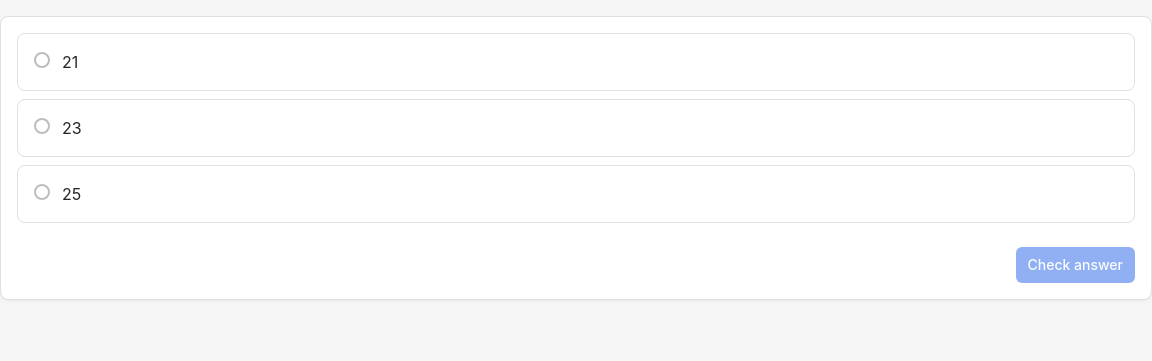
Test case: check mode (non-exam default) › with attempts="3": a wrong check marks only the pick and allows another try
Click the radio button "21" at x=576, y=62, box x1=17 y1=33 x2=1135 y2=91
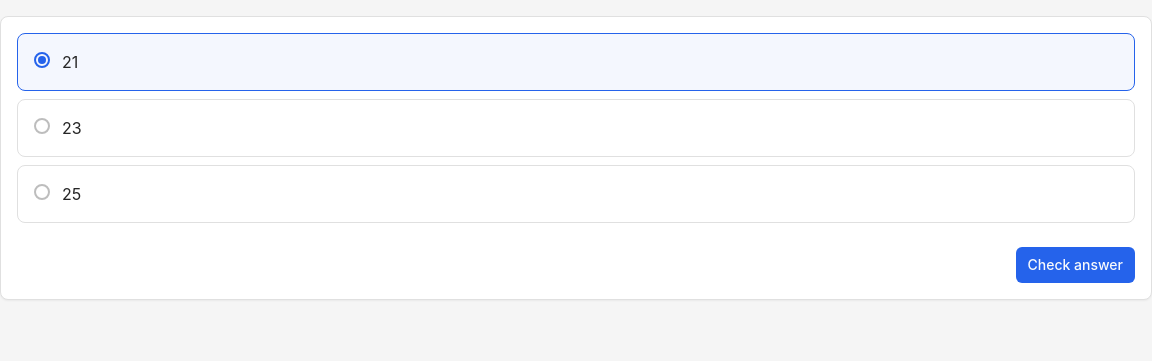
Click the button "Check answer" at x=1075, y=265, box x1=1016 y1=247 x2=1135 y2=283
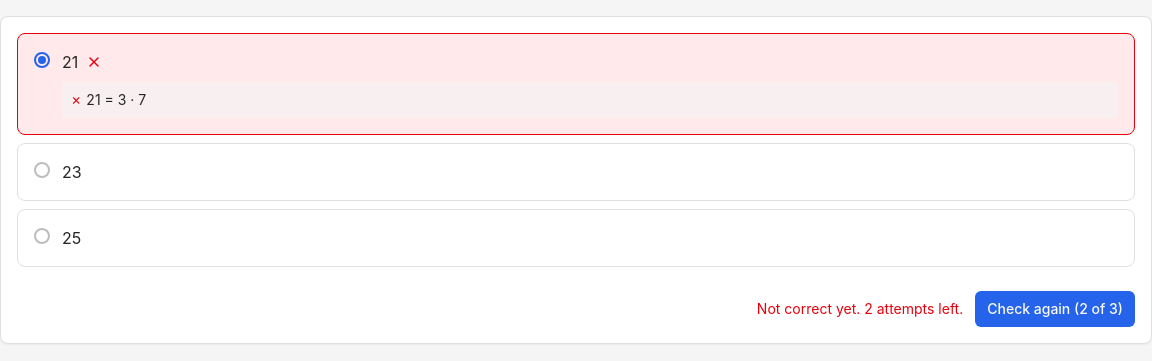
Result: the text "21 = 3 · 7" is shown at x1=86 y1=91 x2=146 y2=108
Result: the text "Not correct yet. 2 attempts left." is shown at x1=757 y1=299 x2=963 y2=319
Result: the button "Check again (2 of 3)" is shown at x1=975 y1=291 x2=1135 y2=327
Click the radio button "25" at x=576, y=238, box x1=17 y1=209 x2=1135 y2=267
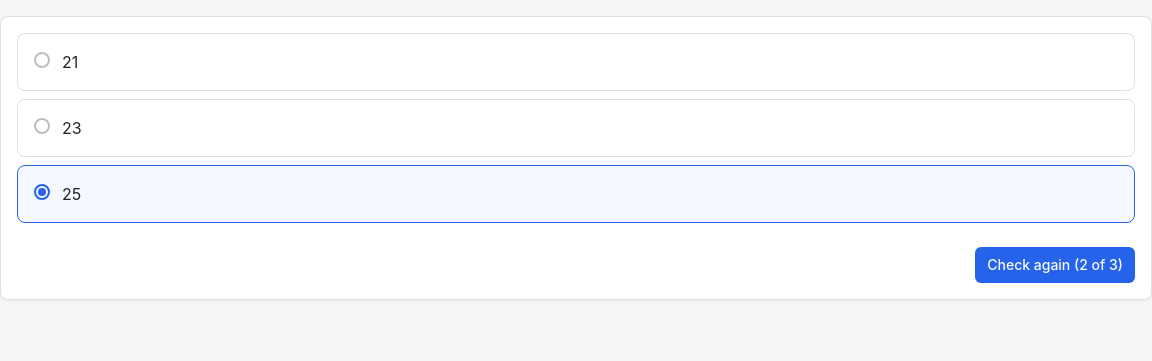
Result: the text "21 = 3 · 7" is gone
